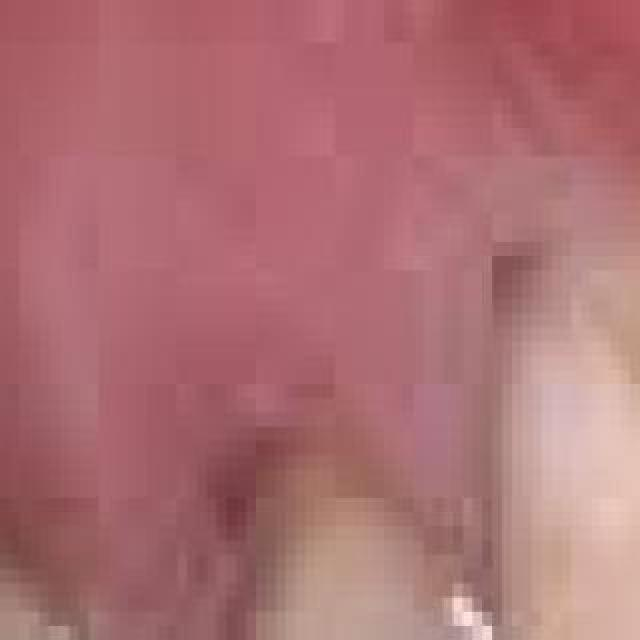calculus: (422, 136, 640, 540)
